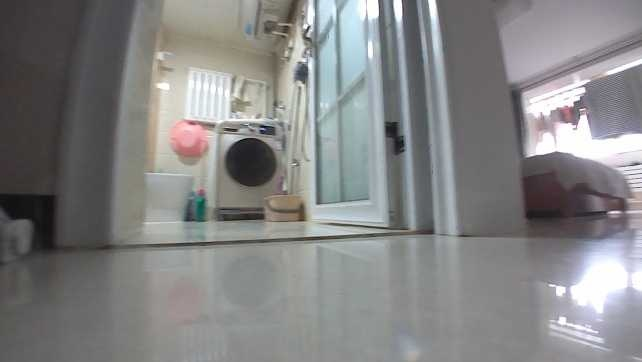bed1: (523, 150, 631, 219)
door_anno: (300, 0, 462, 234)
door_sill: (116, 225, 418, 250)
toilet: (145, 171, 192, 221)
washing_machine: (208, 114, 287, 219)
